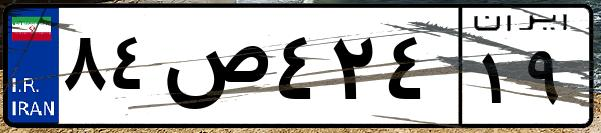1: (475, 38, 525, 113)
2: (330, 28, 385, 110)
4: (270, 28, 330, 110), (385, 28, 445, 110), (110, 28, 158, 98)
8: (57, 26, 110, 100)
9: (525, 38, 570, 115)
ص: (158, 20, 270, 120)
